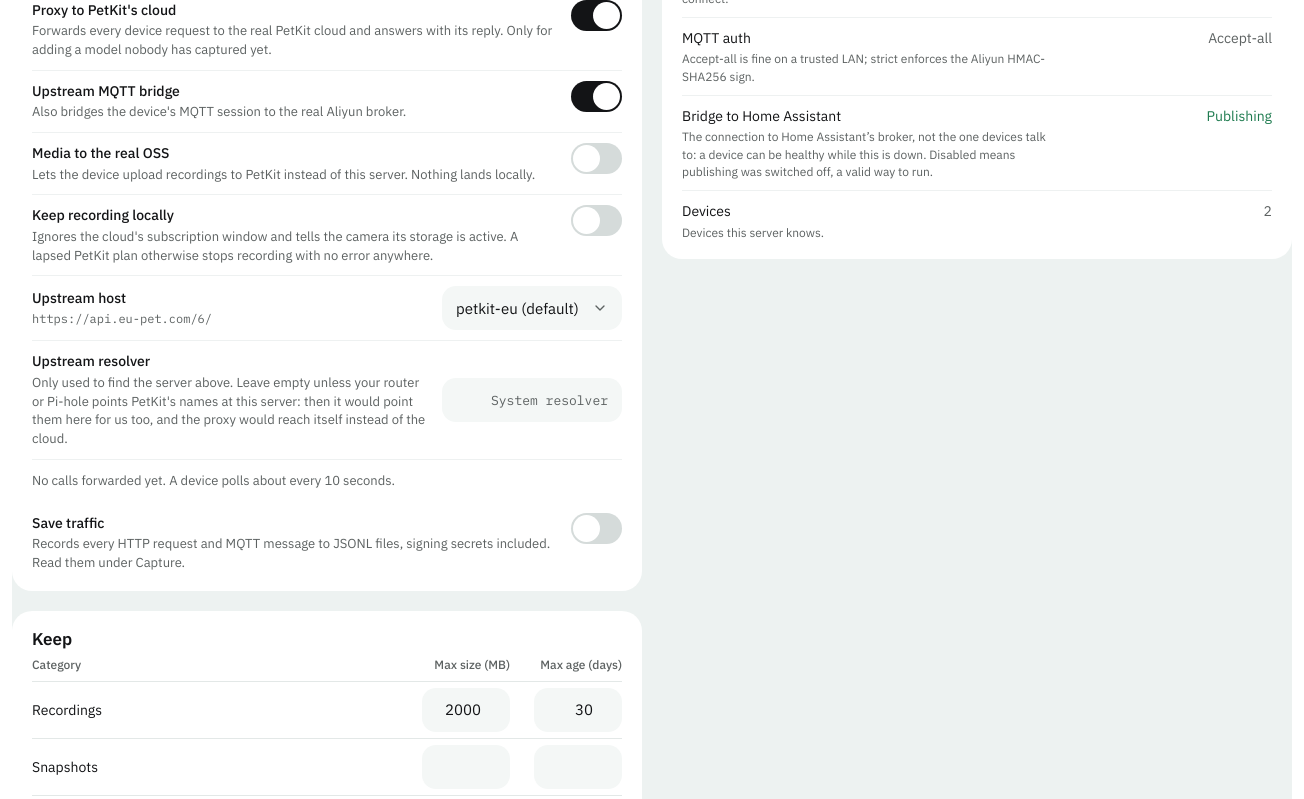
Test case: SetupPage › refuses a hostname as the upstream resolver before saving
This screenshot has width=1304, height=799.
(page scrolled)
Type "dns.local" into the field labelled "Upstream resolver".
click(532, 400); type("dns.local")  # box [442,378,622,422]
(page scrolled)
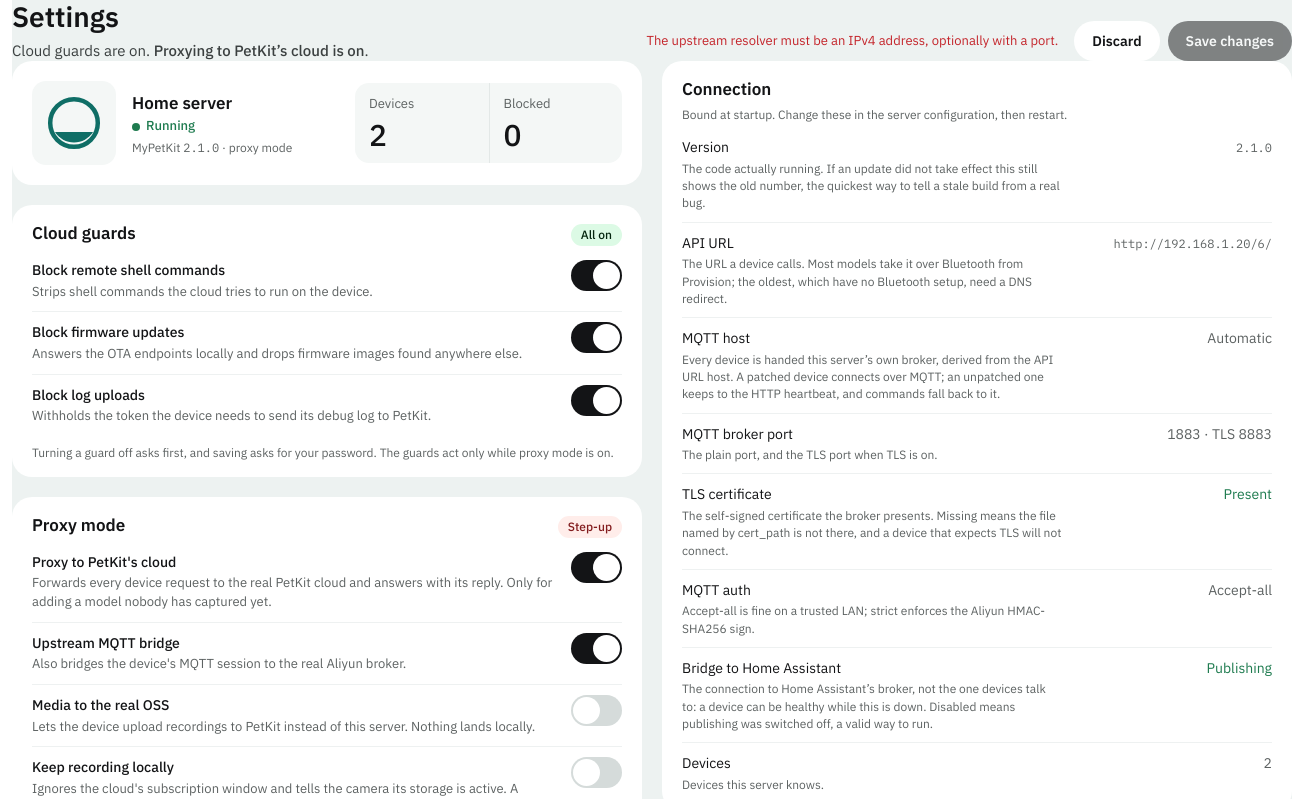
Expected: the text "must be an IPv4 address" is shown, [646,32,1058,49]
Expected: the button "Save changes" is disabled, [1168,21,1292,61]
